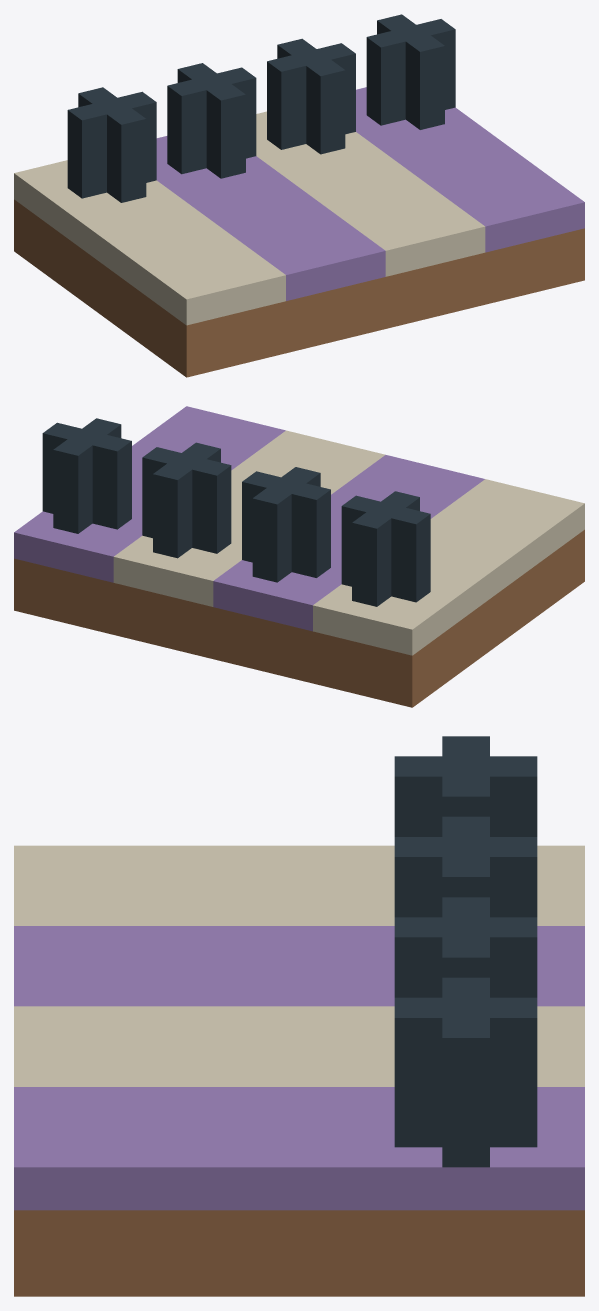
The model's file is games-13.glb.
3 views of the same model, one above another, from view 1: azimuth 30°, elevation 25°; view 2: azimuth 150°, elevation 25°; view 3: azimuth 270°, elevation 25° (orthographic). The views are drawn at different scales.
Parts seen in each view (by area): view 1: Board game; view 2: Board game; view 3: Board game.
Boxes of the visible parts, left/top/right/bottom form: Board game: left=14, top=14, right=584, bottom=377; Board game: left=14, top=406, right=584, bottom=707; Board game: left=14, top=736, right=584, bottom=1296.
Bounding box in the file's own units: 1.28 × 0.48 × 0.96.
